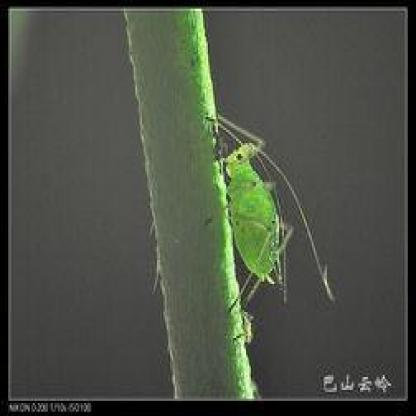aphid: (202, 120, 314, 296)
